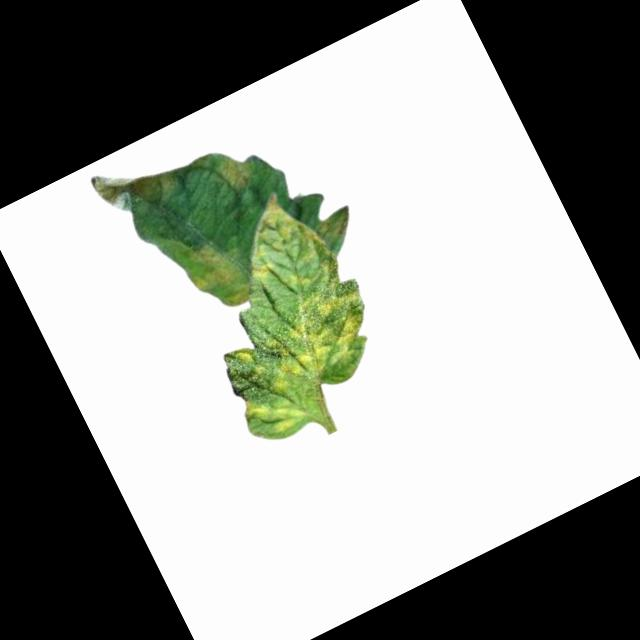Leaf_Mold: (195, 252, 403, 446), (151, 207, 258, 329), (86, 139, 188, 229), (233, 187, 307, 259), (205, 146, 260, 199), (307, 203, 360, 248), (245, 253, 279, 284)
